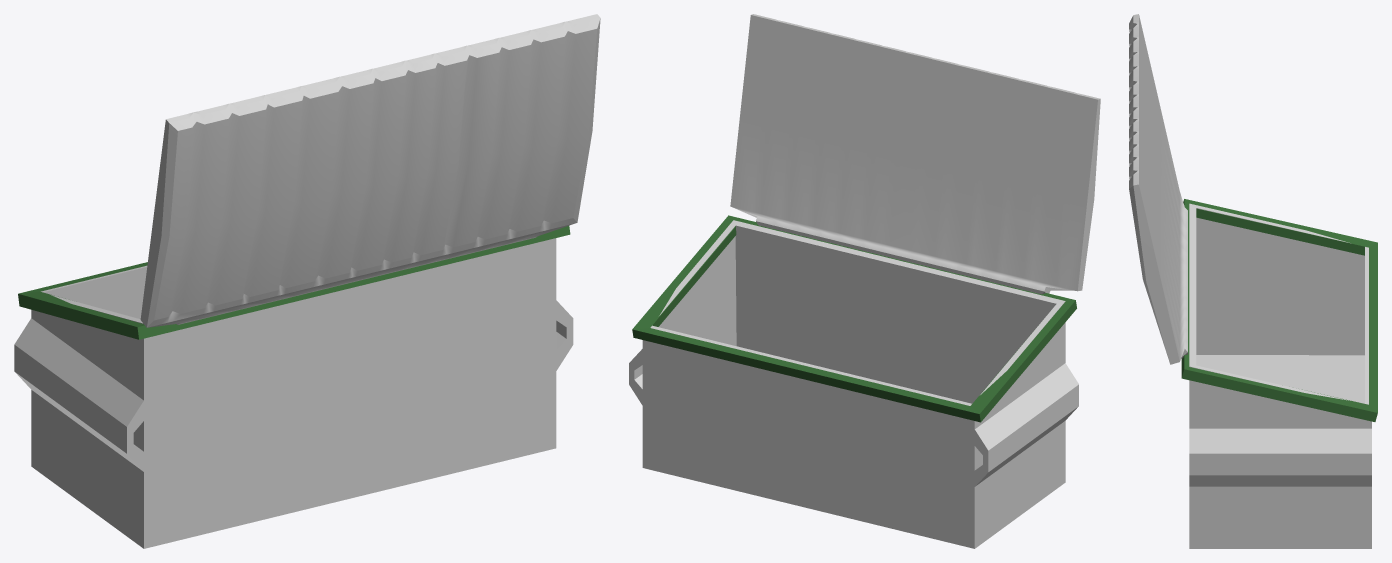
Rendered from Dumpster (open).fbx.
The picture shows the model from 3 angles, left to right: view 1: azimuth 30°, elevation 25°; view 2: azimuth 150°, elevation 25°; view 3: azimuth 270°, elevation 25°; orthographic projection. The views are drawn at different scales.
Visible parts, largest first — view 1: pCube1, pCube3, pCube2; view 2: pCube1, pCube3, pCube2; view 3: pCube1, pCube3, pCube2.
Part boxes in pixels (left/top/right/bottom): pCube1: left=14, top=238, right=573, bottom=548; pCube3: left=140, top=14, right=600, bottom=327; pCube2: left=18, top=226, right=570, bottom=339; pCube1: left=629, top=220, right=1078, bottom=548; pCube3: left=730, top=14, right=1100, bottom=294; pCube2: left=632, top=215, right=1076, bottom=422; pCube1: left=1189, top=203, right=1371, bottom=548; pCube3: left=1129, top=14, right=1187, bottom=364; pCube2: left=1181, top=199, right=1377, bottom=421.
Size of the model in its own units: 237 by 231 by 141.
